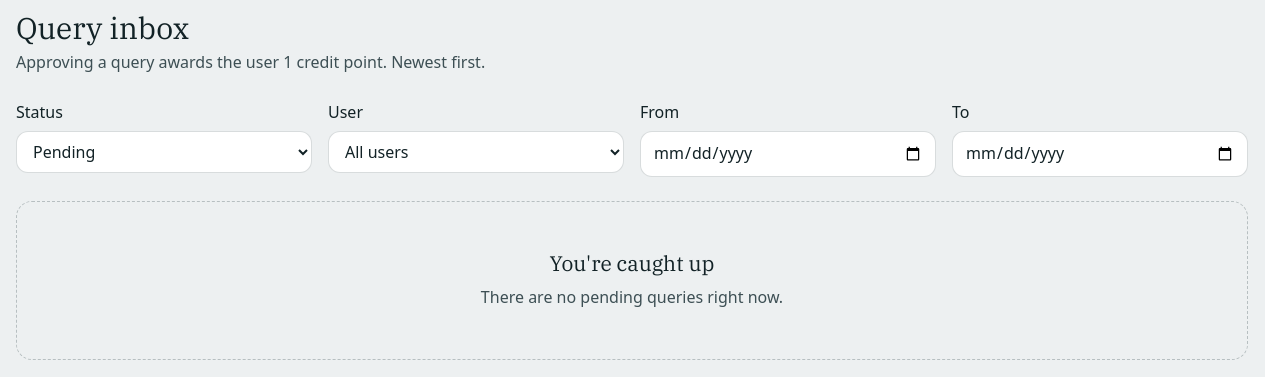
Test case: QueriesPage › doesn't claim 'caught up' when a filter is narrowing the pending view
The image size is (1265, 377).
Expected: the text "You're caught up" is shown, [550,250,714,277]
In the date field labelled "From": (788, 154) [640,131,936,177], type "2026-02-10"
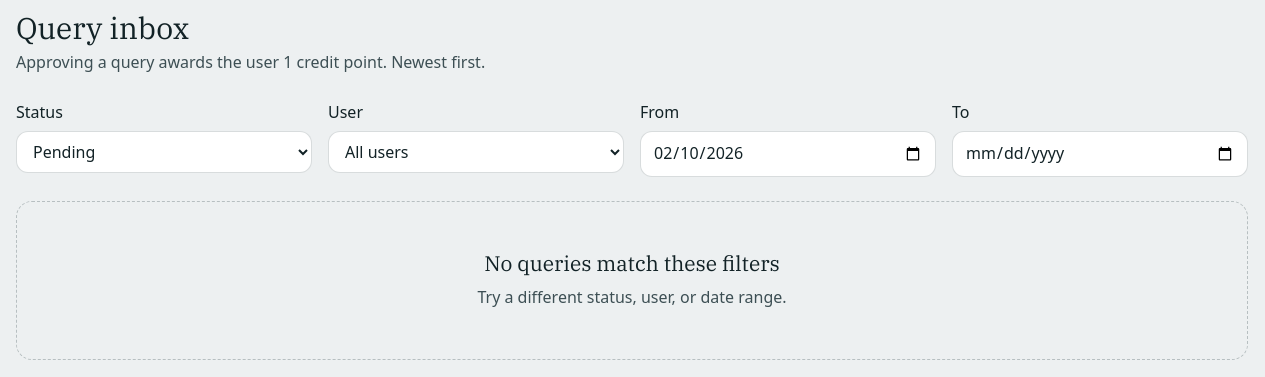
Expected: the text "No queries match these filters" is shown, [484,250,780,277]
